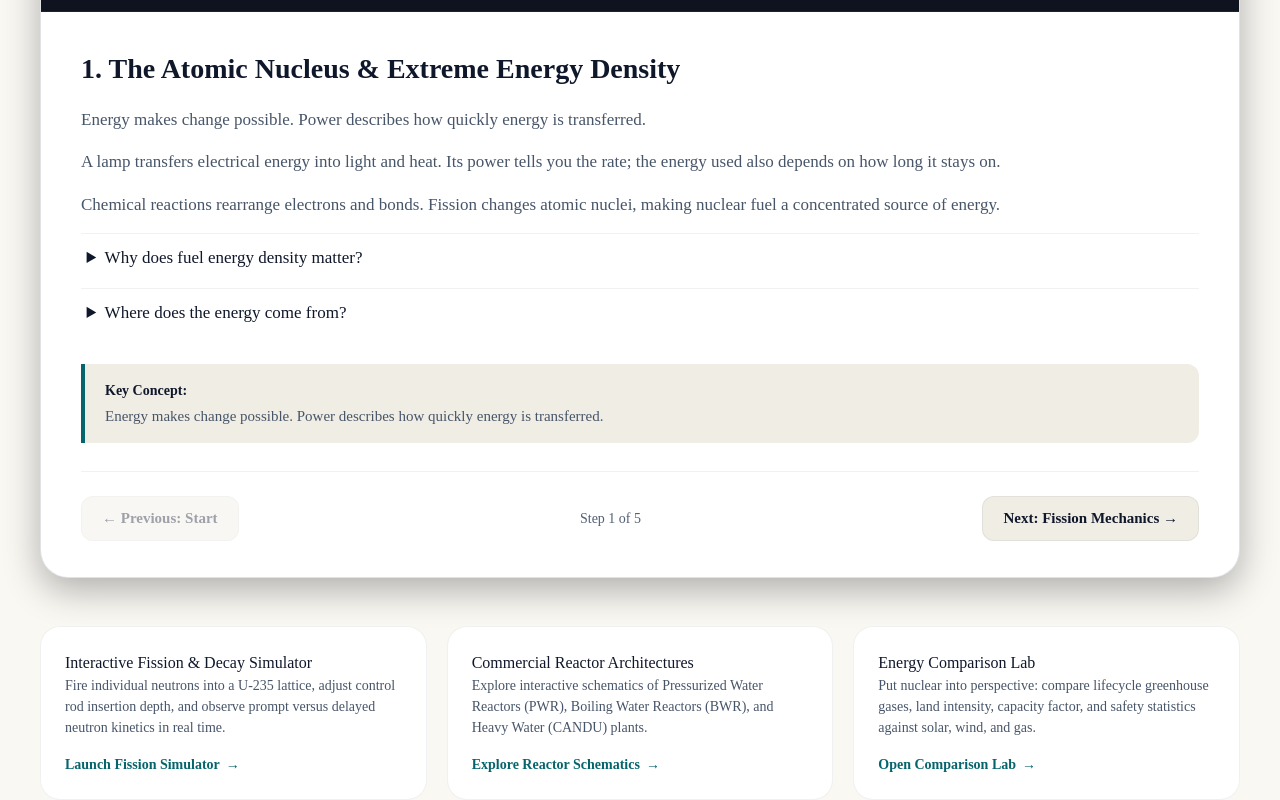
HowItWorksViewer › navigates through steps using tabs and next/previous buttons
(page scrolled)
What coordinates should you click on to do the following:
click the button "Next: Fission Mechanics →"
I would click on:
 (1091, 518)
Its box is [982, 496, 1199, 541].
(page scrolled)
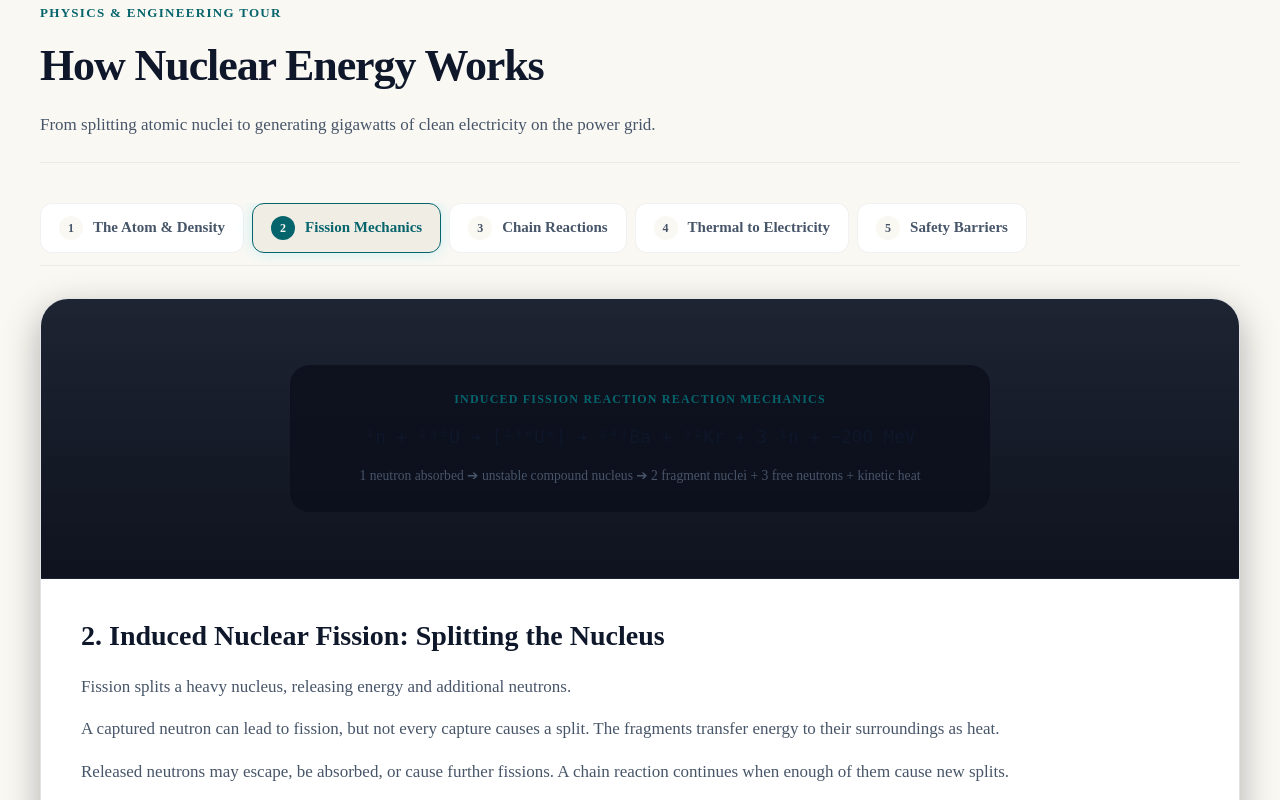
Result: the heading "2. Induced Nuclear Fission: Splitting the Nucleus" is shown at [81, 615, 665, 657]
What coordinates should you click on to do the following:
click the button with aria-label "Step 4: Thermal to Electricity"
I would click on:
 (742, 228)
Its box is [635, 203, 849, 253].
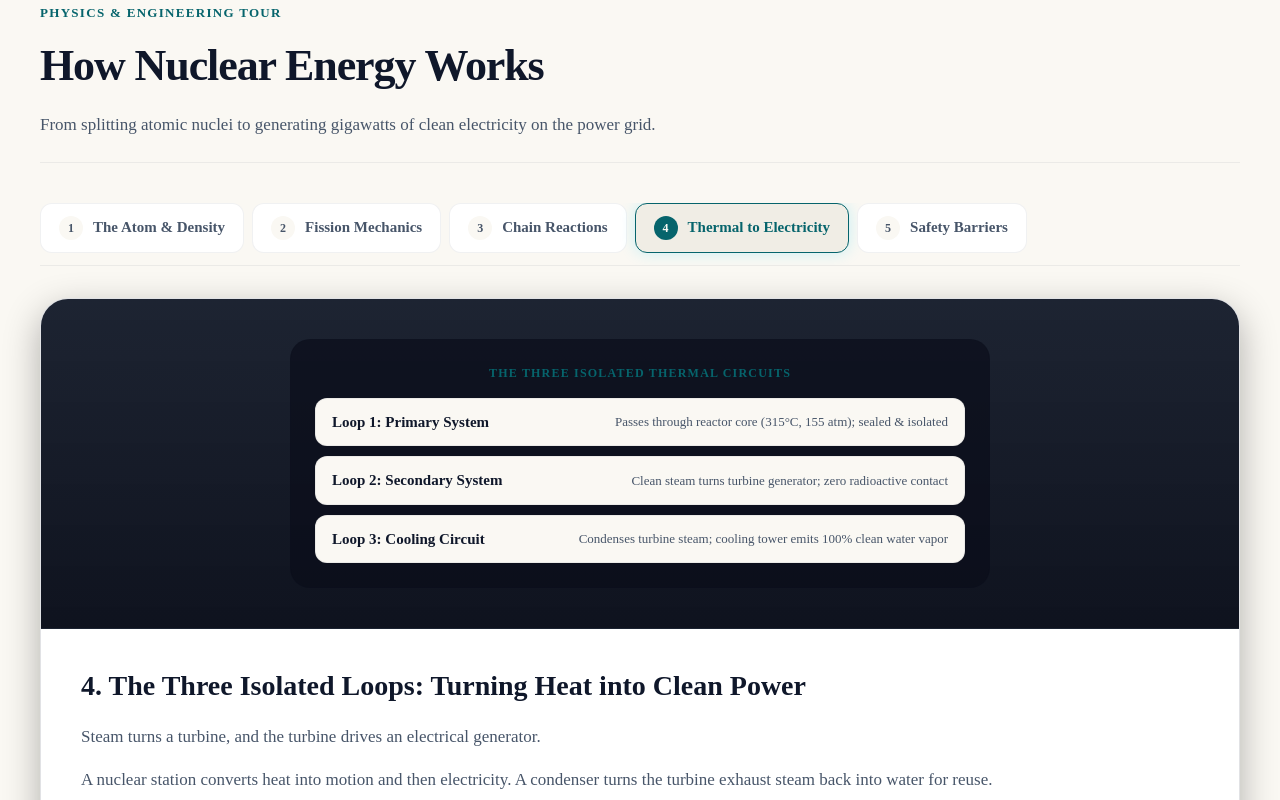
Result: the heading "4. The Three Isolated Loops: Turning Heat into Clean Power" is shown at [81, 665, 806, 707]
